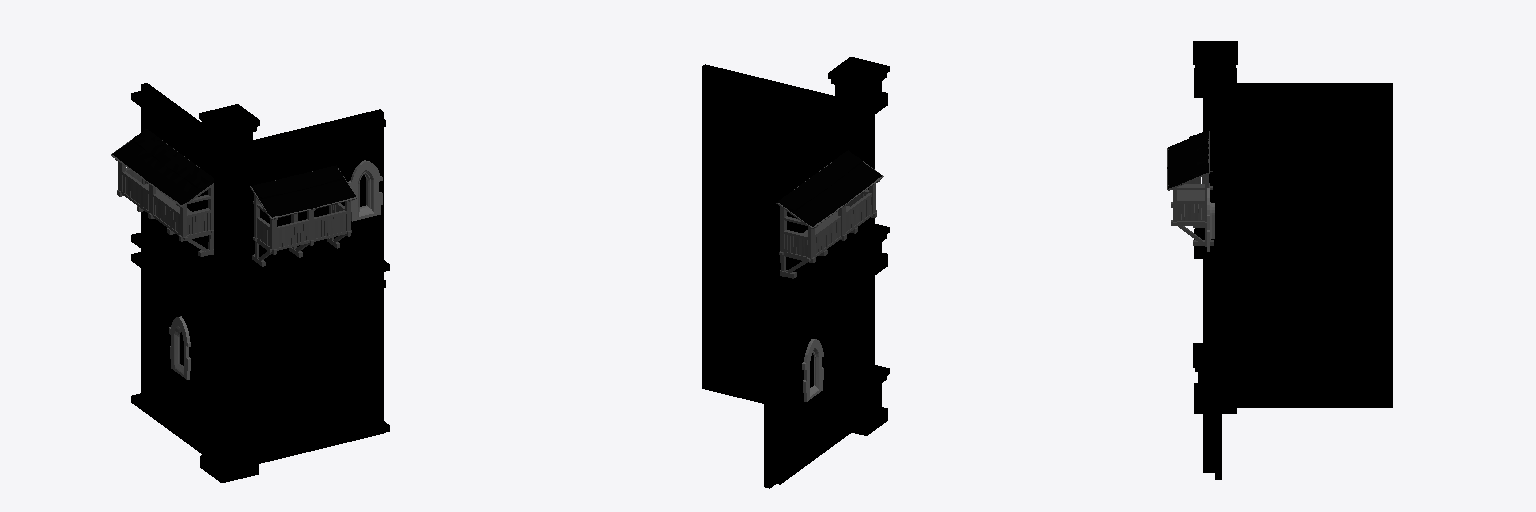
The picture shows the model from 3 angles: view 1: azimuth 30°, elevation 25°; view 2: azimuth 150°, elevation 25°; view 3: azimuth 270°, elevation 25°; orthographic projection.
Parts seen in each view (by area): view 1: object_12, Cube.049_Cube.075, object_8, object_13, object_9, object_5, object_22, Plane.007, object_7, object_26, object_20, object_4 (+13 smaller); view 2: object_8, object_13, object_12, Cube.049_Cube.075, object_9, object_22, object_6, object_10, object_23, object_24, object_4, object_5 (+5 smaller); view 3: object_9, object_13, Cube.049_Cube.075, object_8, object_12, object_4, object_5, object_22, object_26, object_7, object_20, object_1 (+1 smaller).
Part boxes in pixels (x1,y1,x2,y2): object_12: (246, 273, 383, 463); Cube.049_Cube.075: (111, 129, 356, 266); object_8: (246, 109, 383, 303); object_13: (141, 249, 213, 439); object_9: (141, 83, 213, 273); object_5: (214, 162, 245, 284); object_22: (214, 323, 245, 425); Plane.007: (169, 160, 382, 379); object_7: (253, 260, 389, 303); object_26: (253, 421, 389, 462); object_20: (206, 431, 252, 468); object_4: (199, 104, 259, 134); object_8: (702, 64, 834, 242); object_13: (764, 275, 852, 488); object_12: (702, 228, 763, 403); Cube.049_Cube.075: (776, 150, 883, 278); object_9: (764, 108, 852, 327); object_22: (853, 276, 874, 378); object_6: (770, 256, 859, 323); object_10: (770, 116, 862, 181); object_23: (770, 277, 862, 342); object_24: (770, 419, 857, 484); object_4: (828, 57, 889, 87); object_5: (853, 115, 874, 236); object_9: (1227, 83, 1392, 246); object_13: (1227, 247, 1392, 407); Cube.049_Cube.075: (1167, 130, 1213, 246); object_8: (1215, 92, 1221, 318); object_12: (1215, 319, 1221, 479); object_4: (1193, 41, 1237, 64); object_5: (1203, 98, 1226, 215); object_22: (1203, 259, 1226, 357); object_26: (1203, 401, 1214, 472); object_7: (1203, 238, 1214, 311); object_20: (1198, 372, 1232, 399); object_1: (1194, 68, 1236, 97).
Bounding box in the file's own units: 12.39 × 22.01 × 12.69.